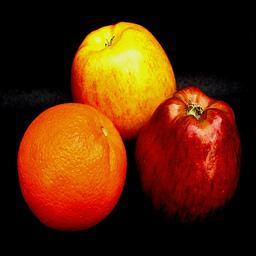apple: (134, 88, 241, 227), (69, 21, 177, 144)
